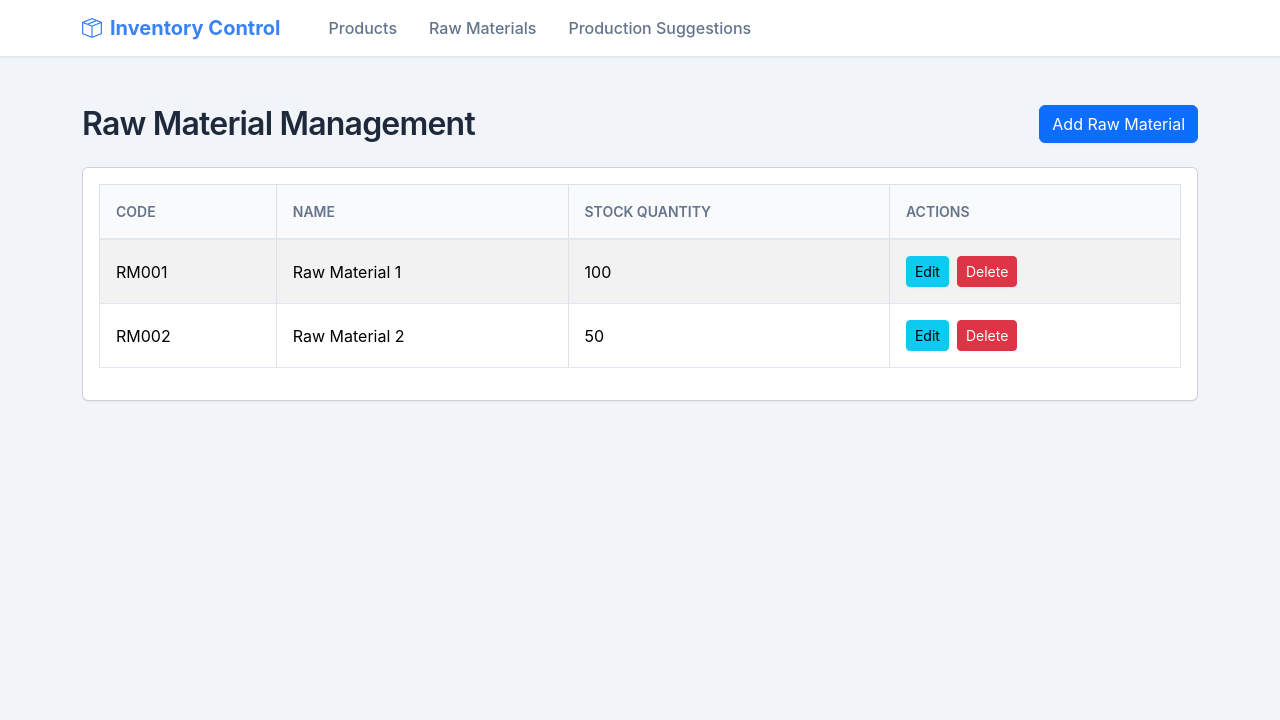
Raw Material Management › should display error message and allow dismissal
The image size is (1280, 720).
Click the button "Add Raw Material" at coordinates (1119, 124), box [1039,105,1198,143]
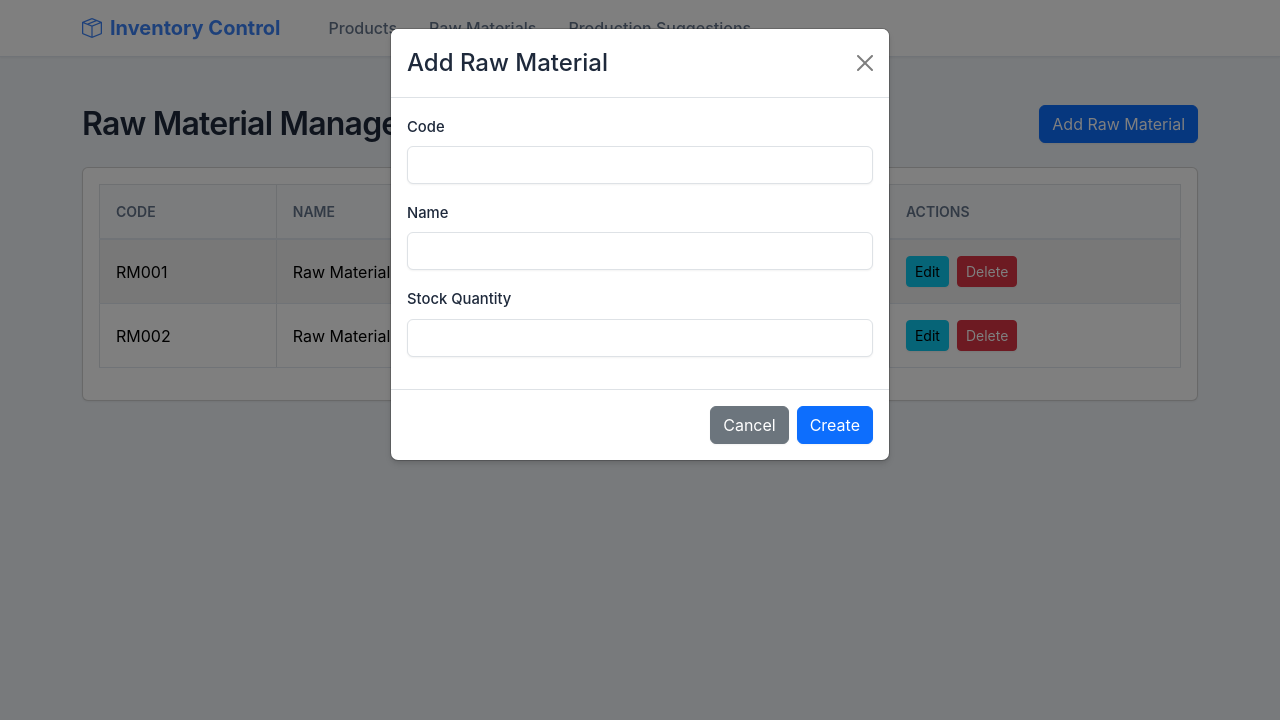
Type "RM003" into the 1st field at coordinates (640, 165), box [407,146,873,184]
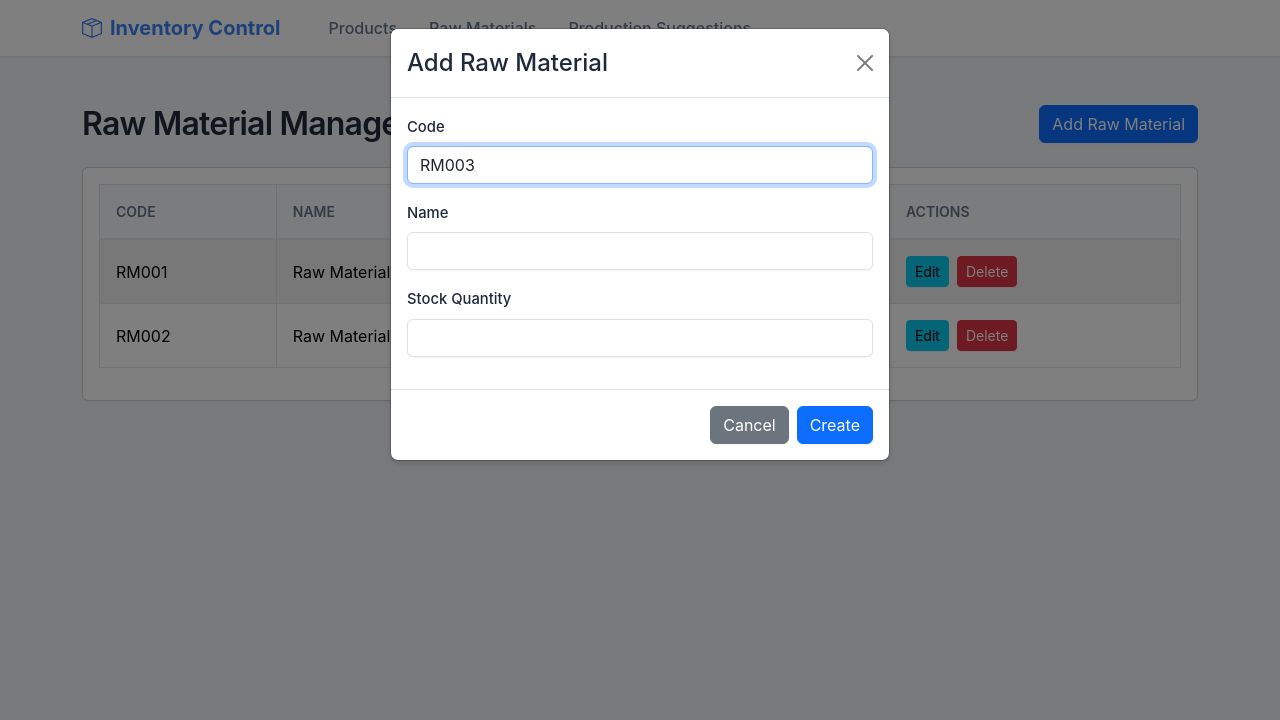
Type "New Raw Material" into the 2nd field at coordinates (640, 251), box [407,232,873,270]
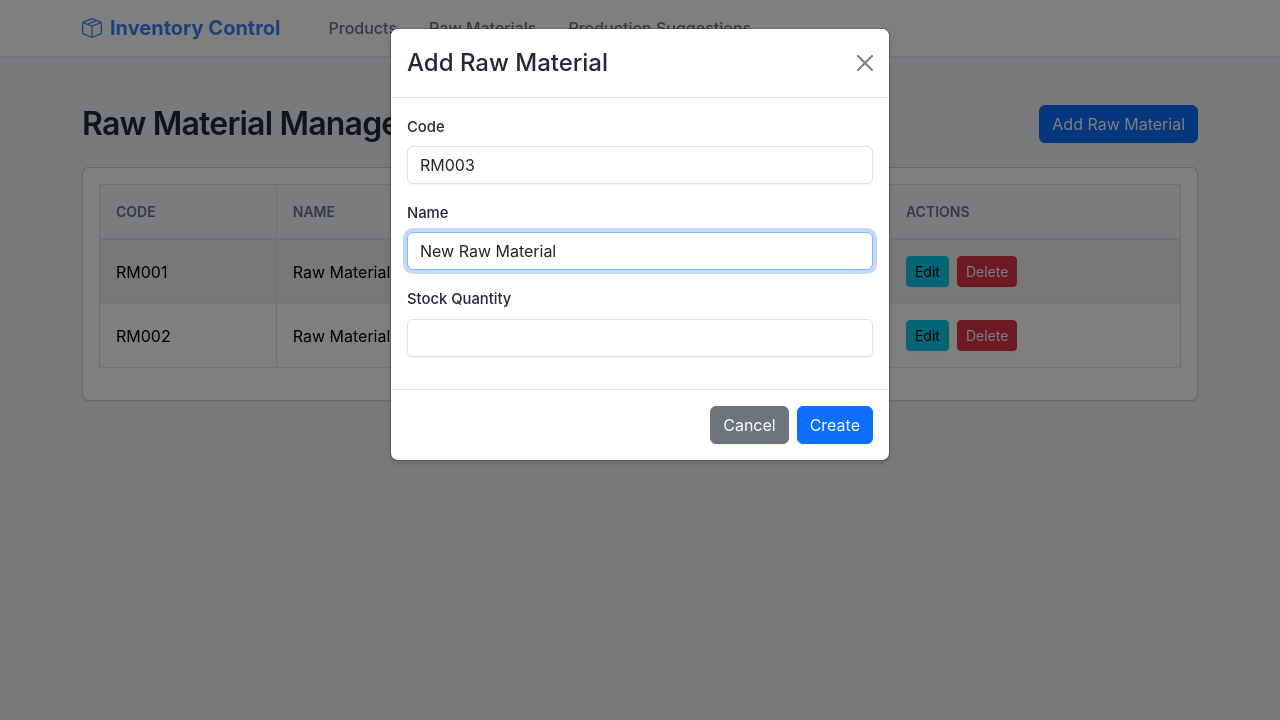
Type "75" into the number field at coordinates (640, 338), box [407,319,873,357]
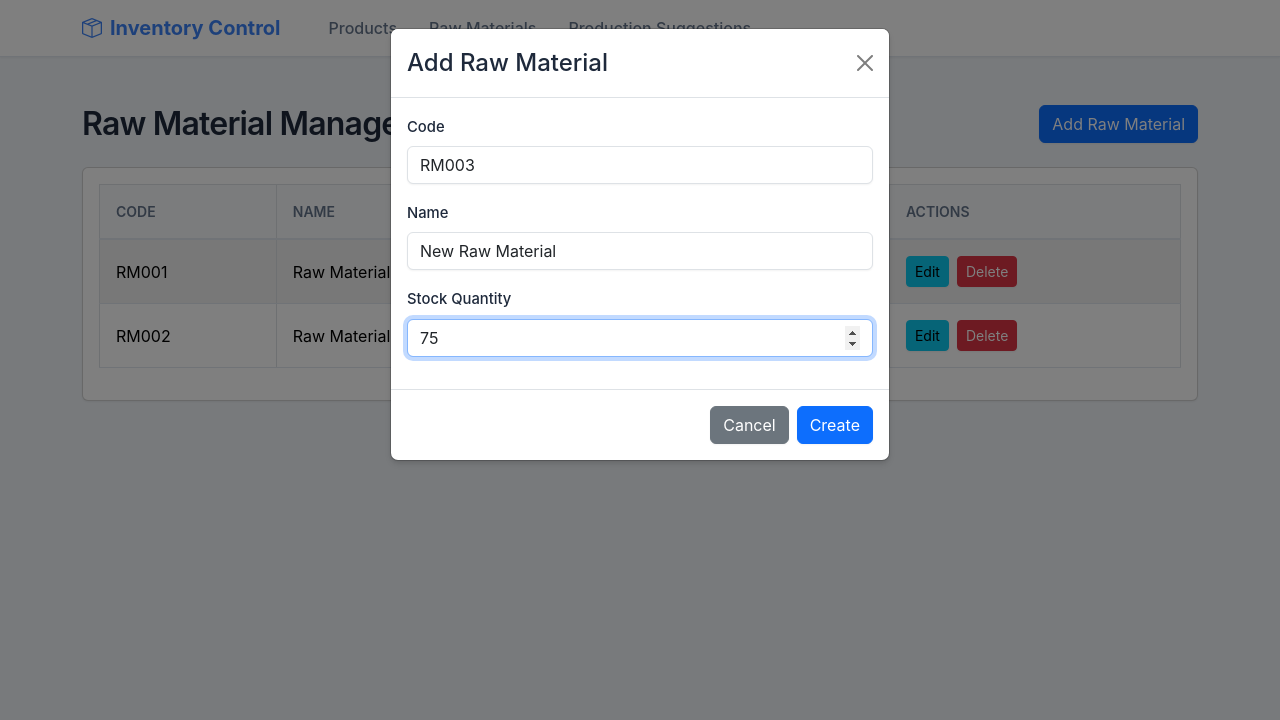
Click the button "Create" at coordinates (835, 425), box [797,406,873,444]
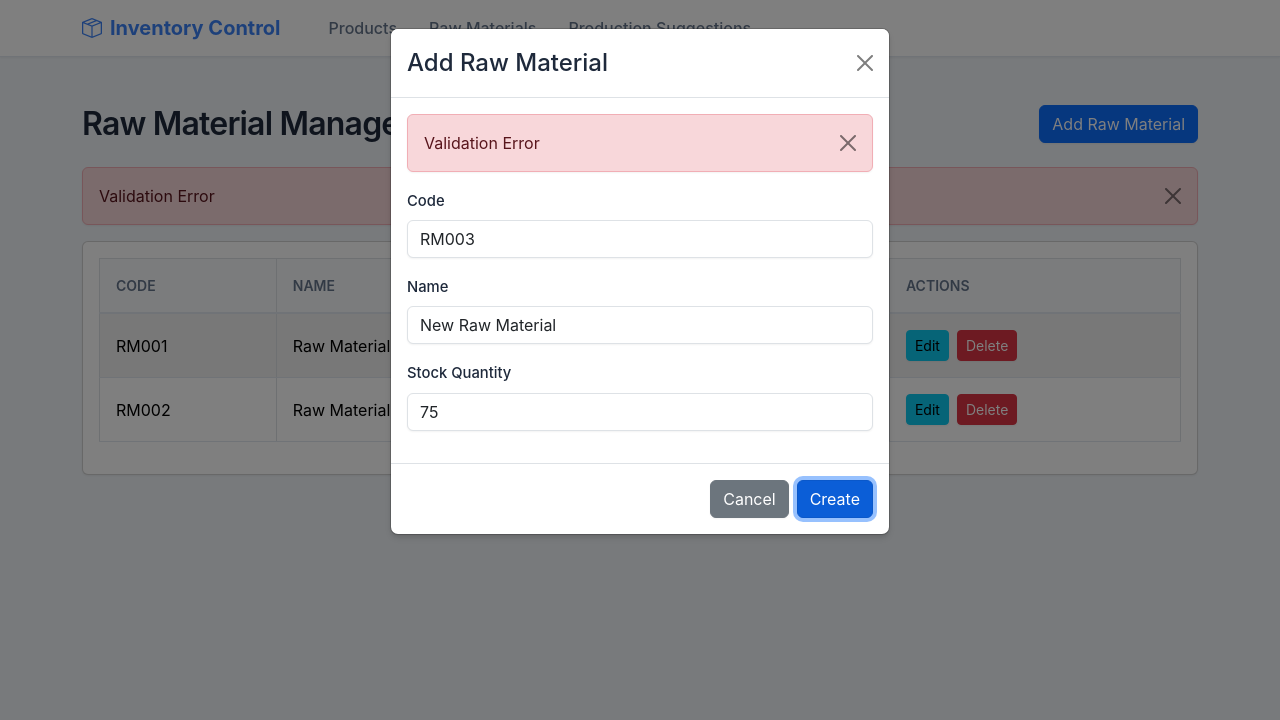
Check: the message "Validation Error" is shown, box [407,114,873,172]
Click the button named "Close alert" at coordinates (848, 143), box [824,115,872,171]
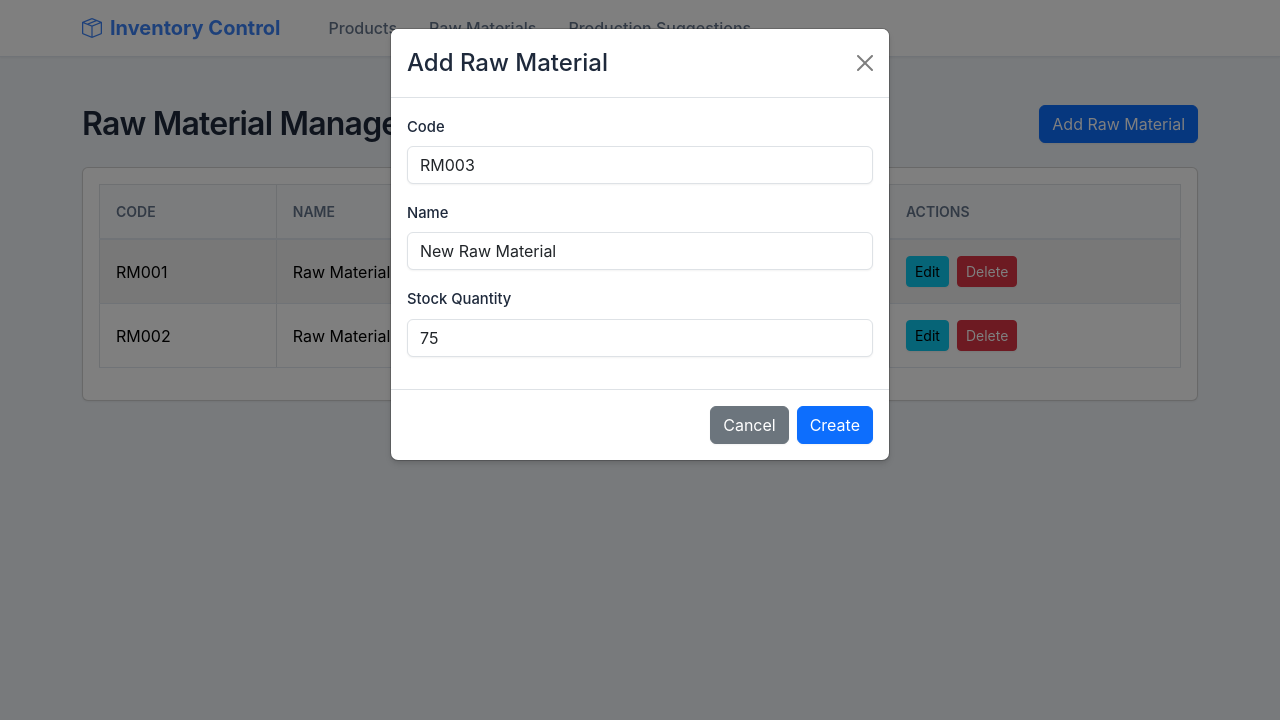
Check: the message with class "alert-danger" is gone
